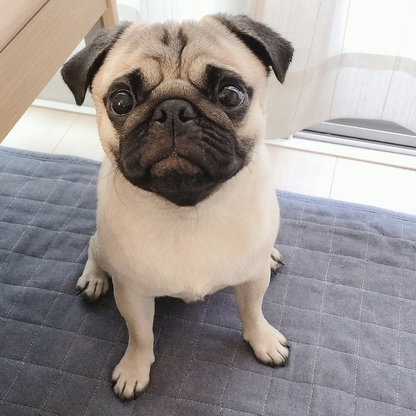Pug: (58, 7, 297, 406)
